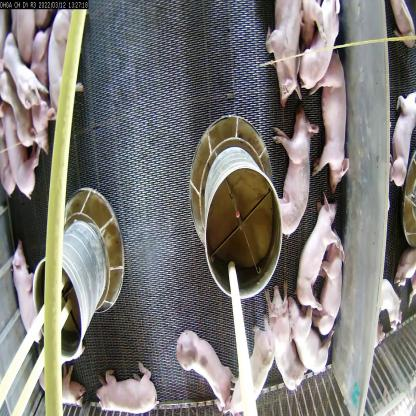Pig: (270, 106, 317, 236), (311, 51, 351, 192), (176, 328, 237, 416), (295, 191, 337, 310), (46, 5, 90, 116), (0, 66, 51, 158), (227, 322, 275, 416), (263, 0, 305, 105), (266, 284, 304, 395), (284, 297, 334, 380), (296, 0, 339, 95), (7, 240, 45, 347), (310, 234, 346, 339), (93, 362, 163, 415), (1, 105, 40, 196), (386, 80, 415, 192), (5, 36, 46, 112), (37, 352, 87, 406)
